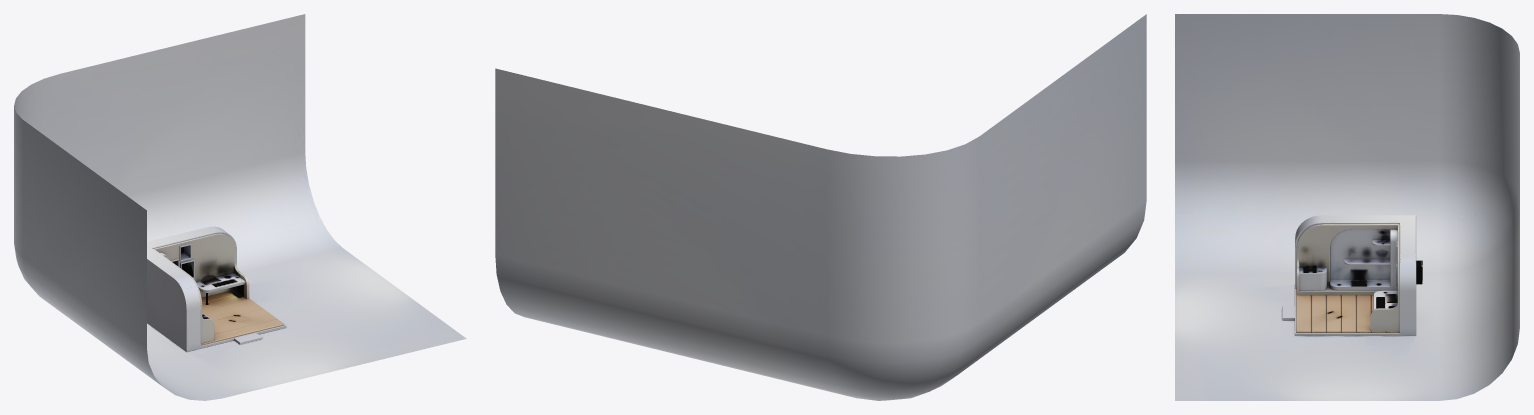
File: base-packed.glb
3 renders of one model, left to right at view 1: azimuth 30°, elevation 25°; view 2: azimuth 150°, elevation 25°; view 3: azimuth 270°, elevation 25°, orthographic. The views are drawn at different scales.
Bounding box in the file's own units: 28.51 × 17.58 × 24.94.
Materials: 3 (3 with a texture image).
